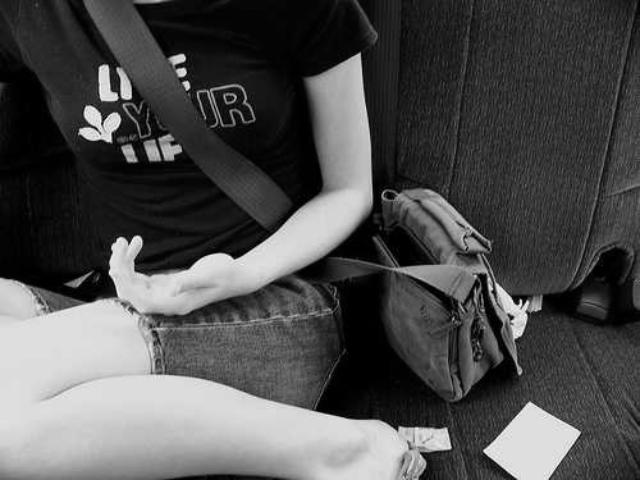Seatbelt: (76, 0, 300, 236)
